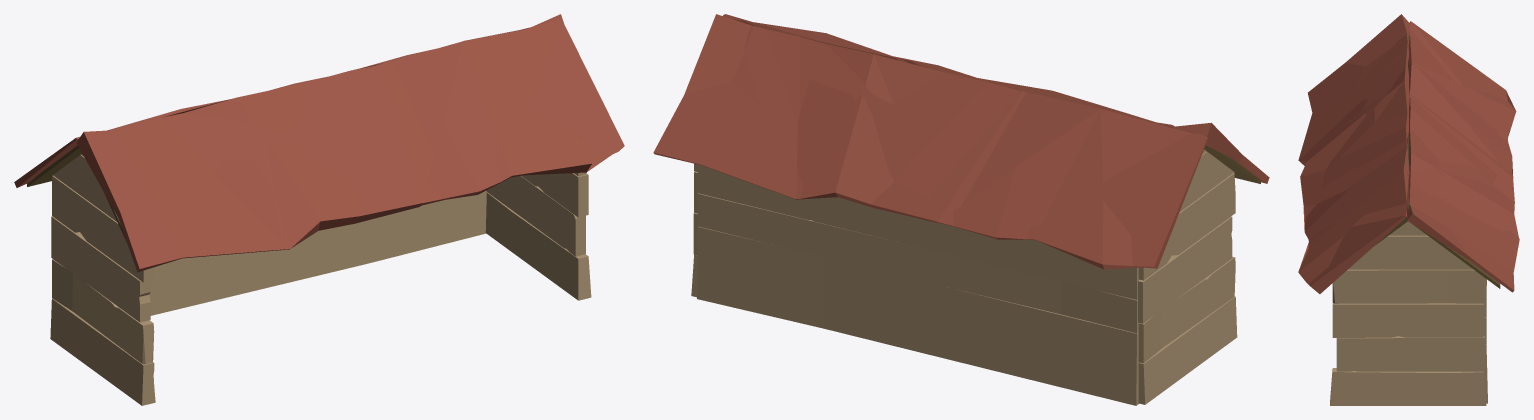
Rendered from Safari_Stable.fbx.
The picture shows the model from 3 angles, left to right: view 1: azimuth 30°, elevation 25°; view 2: azimuth 150°, elevation 25°; view 3: azimuth 270°, elevation 25°; orthographic projection. The views are drawn at different scales.
Visible parts, largest first — view 1: Horse_Stable; view 2: Horse_Stable; view 3: Horse_Stable.
Part boxes in pixels (<box>): Horse_Stable: <box>14,14,624,405</box>; Horse_Stable: <box>653,14,1269,405</box>; Horse_Stable: <box>1298,14,1519,405</box>.
Size of the model in its own units: 704 by 339 by 332.
